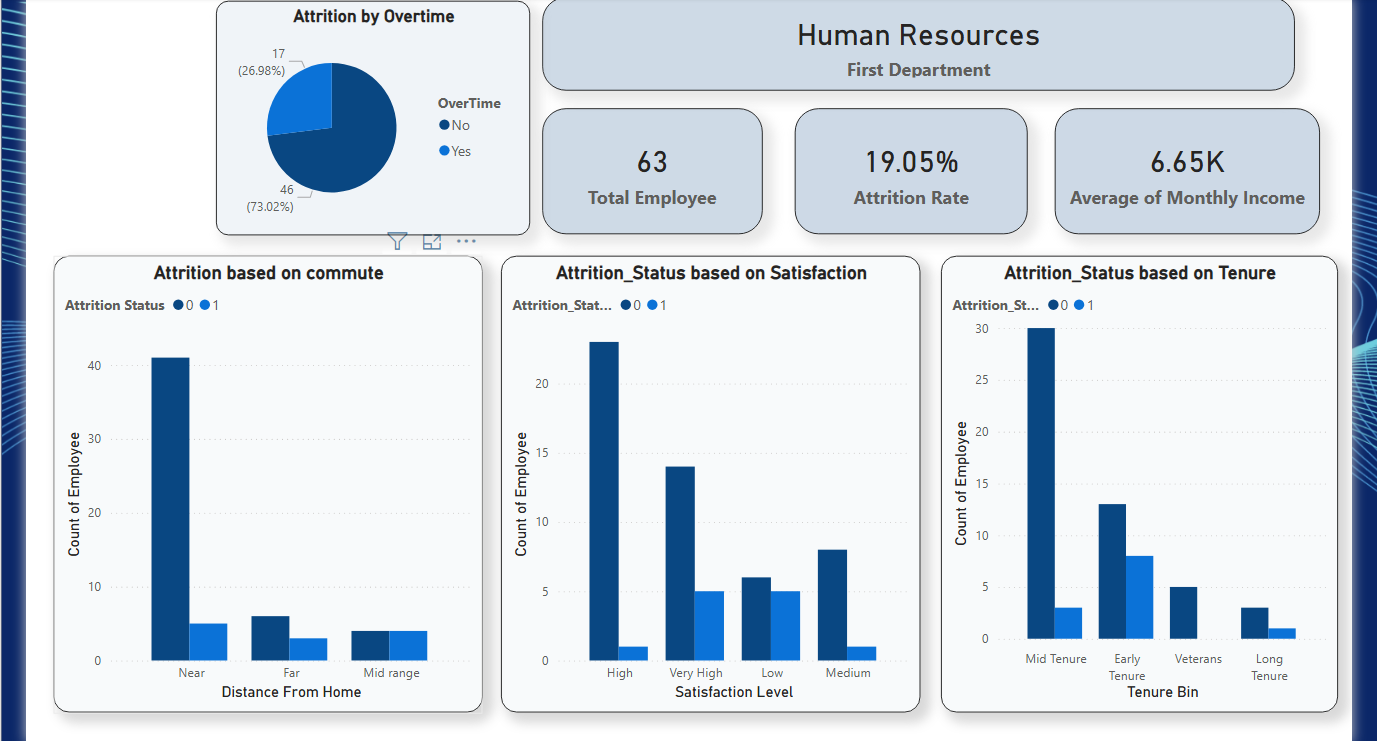

This screenshot's page, from the dashboard's own definition file:
{"tool":"powerbi","page":{"name":"Factors for Attrition","canvas":[1280,720],"ordinal":3},"visuals":[{"type":"card","fields":{"Values":["HR_Analytics csv.Total Employee"]},"box":[498.6,107.8,212.6,121.9],"z":0},{"type":"card","fields":{"Values":["HR_Analytics csv.Attrition Rate"]},"box":[742.4,107.8,225.1,121.9],"z":1000},{"type":"card","fields":{"Values":["Avg(HR_Analytics csv.Monthly Income)"]},"box":[992.5,107.8,256.3,121.9],"z":2000},{"type":"clusteredColumnChart","title":"   Attrition based on commute","fields":{"Y":["CountNonNull(HR_Analytics csv.Employee ID)"],"Series":["HR_Analytics csv.Attrition_Numeric"],"Category":["HR_Analytics.@Distance From Home"]},"box":[26.6,250.1,414.2,440.8],"z":3000},{"type":"actionButton","box":[0,0,100,40],"z":4000},{"type":"clusteredColumnChart","title":" Attrition_Status based on Satisfaction","fields":{"Y":["CountNonNull(HR_Analytics csv.Employee ID)"],"Series":["HR_Analytics csv.Attrition_Numeric"],"Category":["HR_Analytics.Satisfaction Level"]},"box":[458,250.1,404.8,440.8],"z":5000},{"type":"clusteredColumnChart","title":" Attrition_Status based on Tenure","fields":{"Y":["CountNonNull(HR_Analytics csv.Employee ID)"],"Series":["HR_Analytics csv.Attrition_Numeric"],"Category":["HR_Analytics.Tenure Bin"]},"box":[883.1,250.1,382.9,440.8],"z":6000},{"type":"card","fields":{"Values":["Min(HR_Analytics.Department)"]},"box":[498.6,0,726.8,90.7],"z":7000},{"type":"pieChart","title":"Attrition  by Overtime","fields":{"Category":["HR_Analytics.OverTime"],"Y":["CountNonNull(HR_Analytics.Employee ID)"]},"box":[182.9,3.1,303.2,226.6],"z":8000}]}

Visuals, with their boxes on the page's 1280x720 design canvas (x1, y1, x2, y2). These are canvas units, not pixel positions in the 1377x741 screenshot, which may show the page scaled, cropped or inside an application window:
card - HR_Analytics csv.Total Employee: 499, 108, 711, 230
card - HR_Analytics csv.Attrition Rate: 742, 108, 968, 230
card - Avg(HR_Analytics csv.Monthly Income): 992, 108, 1249, 230
"   Attrition based on commute" clusteredColumnChart: 27, 250, 441, 691
actionButton: 0, 0, 100, 40
" Attrition_Status based on Satisfaction" clusteredColumnChart: 458, 250, 863, 691
" Attrition_Status based on Tenure" clusteredColumnChart: 883, 250, 1266, 691
card - Min(HR_Analytics.Department): 499, 0, 1225, 91
"Attrition  by Overtime" pieChart: 183, 3, 486, 230
